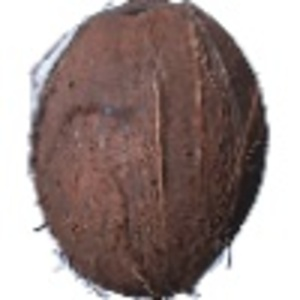coco: (29, 1, 269, 300)
